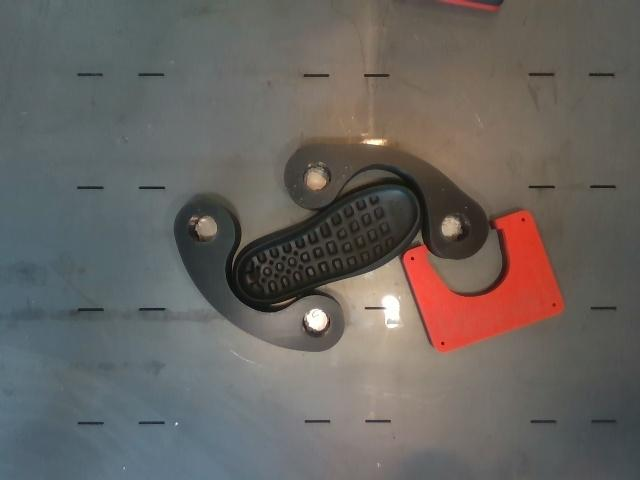shoes: (237, 185, 418, 301)
